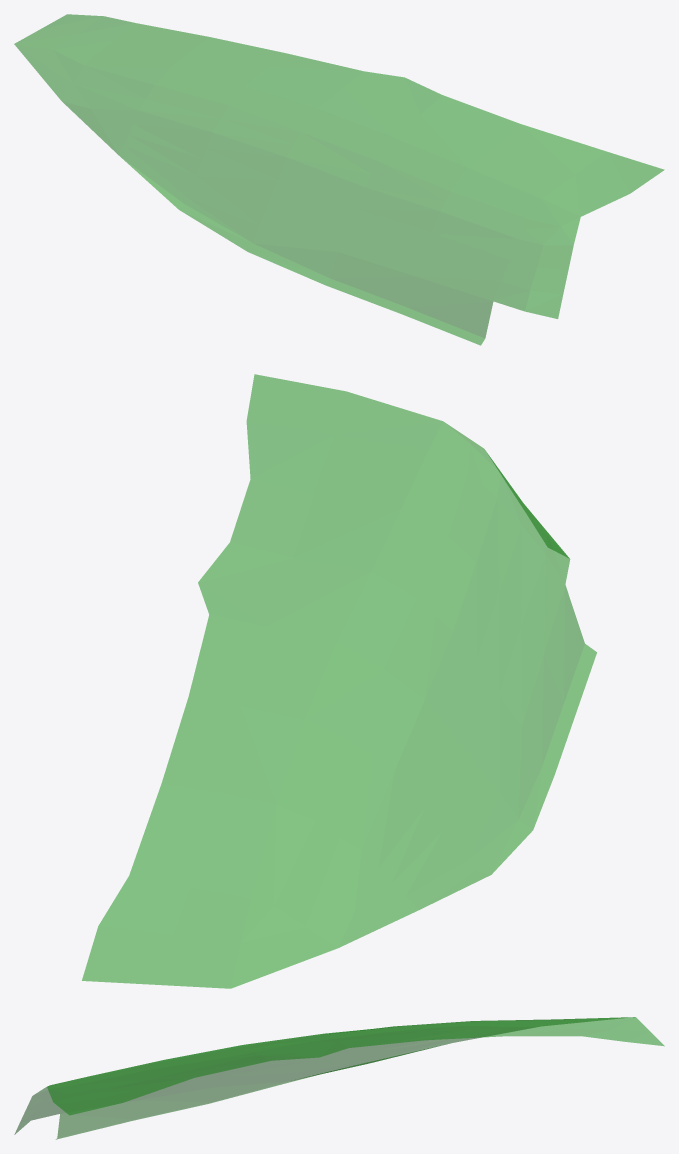
The model's file is quicksand3.obj.
The picture shows the model from 3 angles, top to bottom: view 1: azimuth 30°, elevation 25°; view 2: azimuth 150°, elevation 25°; view 3: azimuth 270°, elevation 25°; orthographic projection. The views are drawn at different scales.
Size of the model in its own units: 61.18 by 24.39 by 124.
